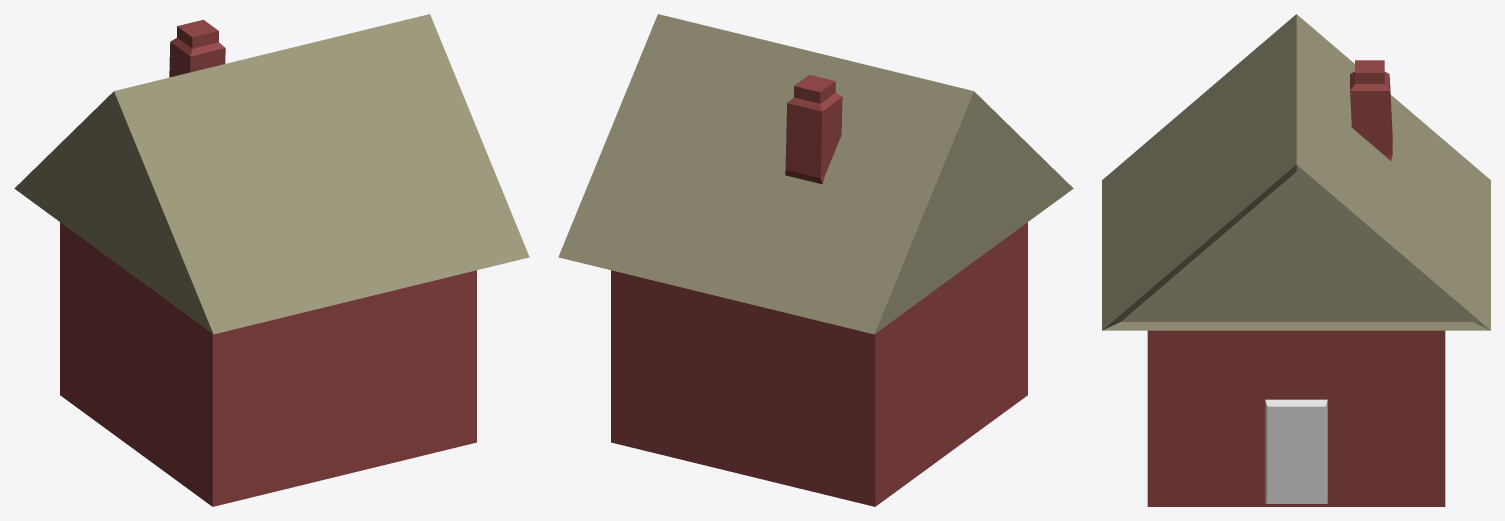
File: house.dae
3 renders of one model, left to right at view 1: azimuth 30°, elevation 25°; view 2: azimuth 150°, elevation 25°; view 3: azimuth 270°, elevation 25°, orthographic. The views are drawn at different scales.
Parts seen in each view (by area): view 1: Plane, Cube; view 2: Plane, Cube; view 3: Plane, Cube, Plane.001.
Part boxes in pixels (x1,y1,x2,y2): Plane: [14, 14, 529, 334]; Cube: [60, 19, 476, 506]; Plane: [558, 14, 1073, 334]; Cube: [611, 74, 1027, 506]; Plane: [1102, 14, 1490, 330]; Cube: [1147, 60, 1445, 506]; Plane.001: [1265, 399, 1327, 503].
Bounding box in the file's own units: 2.39 × 2.61 × 2.7.
